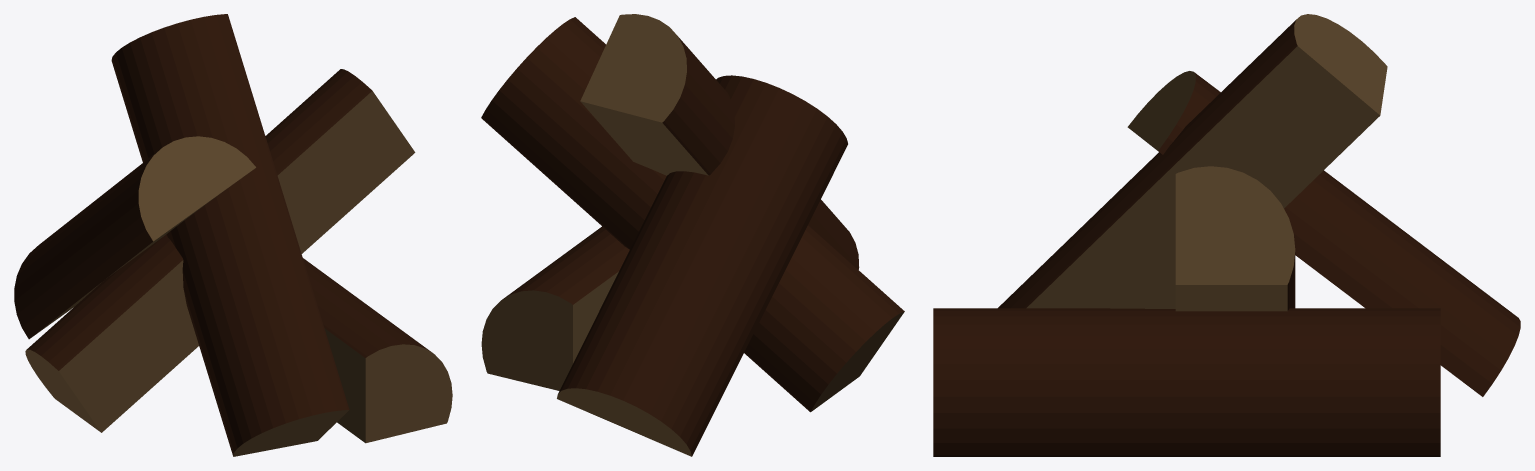
The model's file is log_pile_for_fire.fbx.
3 renders of one model, left to right at view 1: azimuth 30°, elevation 25°; view 2: azimuth 150°, elevation 25°; view 3: azimuth 270°, elevation 25°, orthographic. The views are drawn at different scales.
Parts seen in each view (by area): view 1: log_pile_for_fire; view 2: log_pile_for_fire; view 3: log_pile_for_fire.
Part boxes in pixels (x1=…): log_pile_for_fire: x1=14, y1=14, x2=452, y2=456; log_pile_for_fire: x1=481, y1=14, x2=904, y2=456; log_pile_for_fire: x1=933, y1=14, x2=1520, y2=456.
Bounding box in the file's own units: 584 × 540 × 695.
